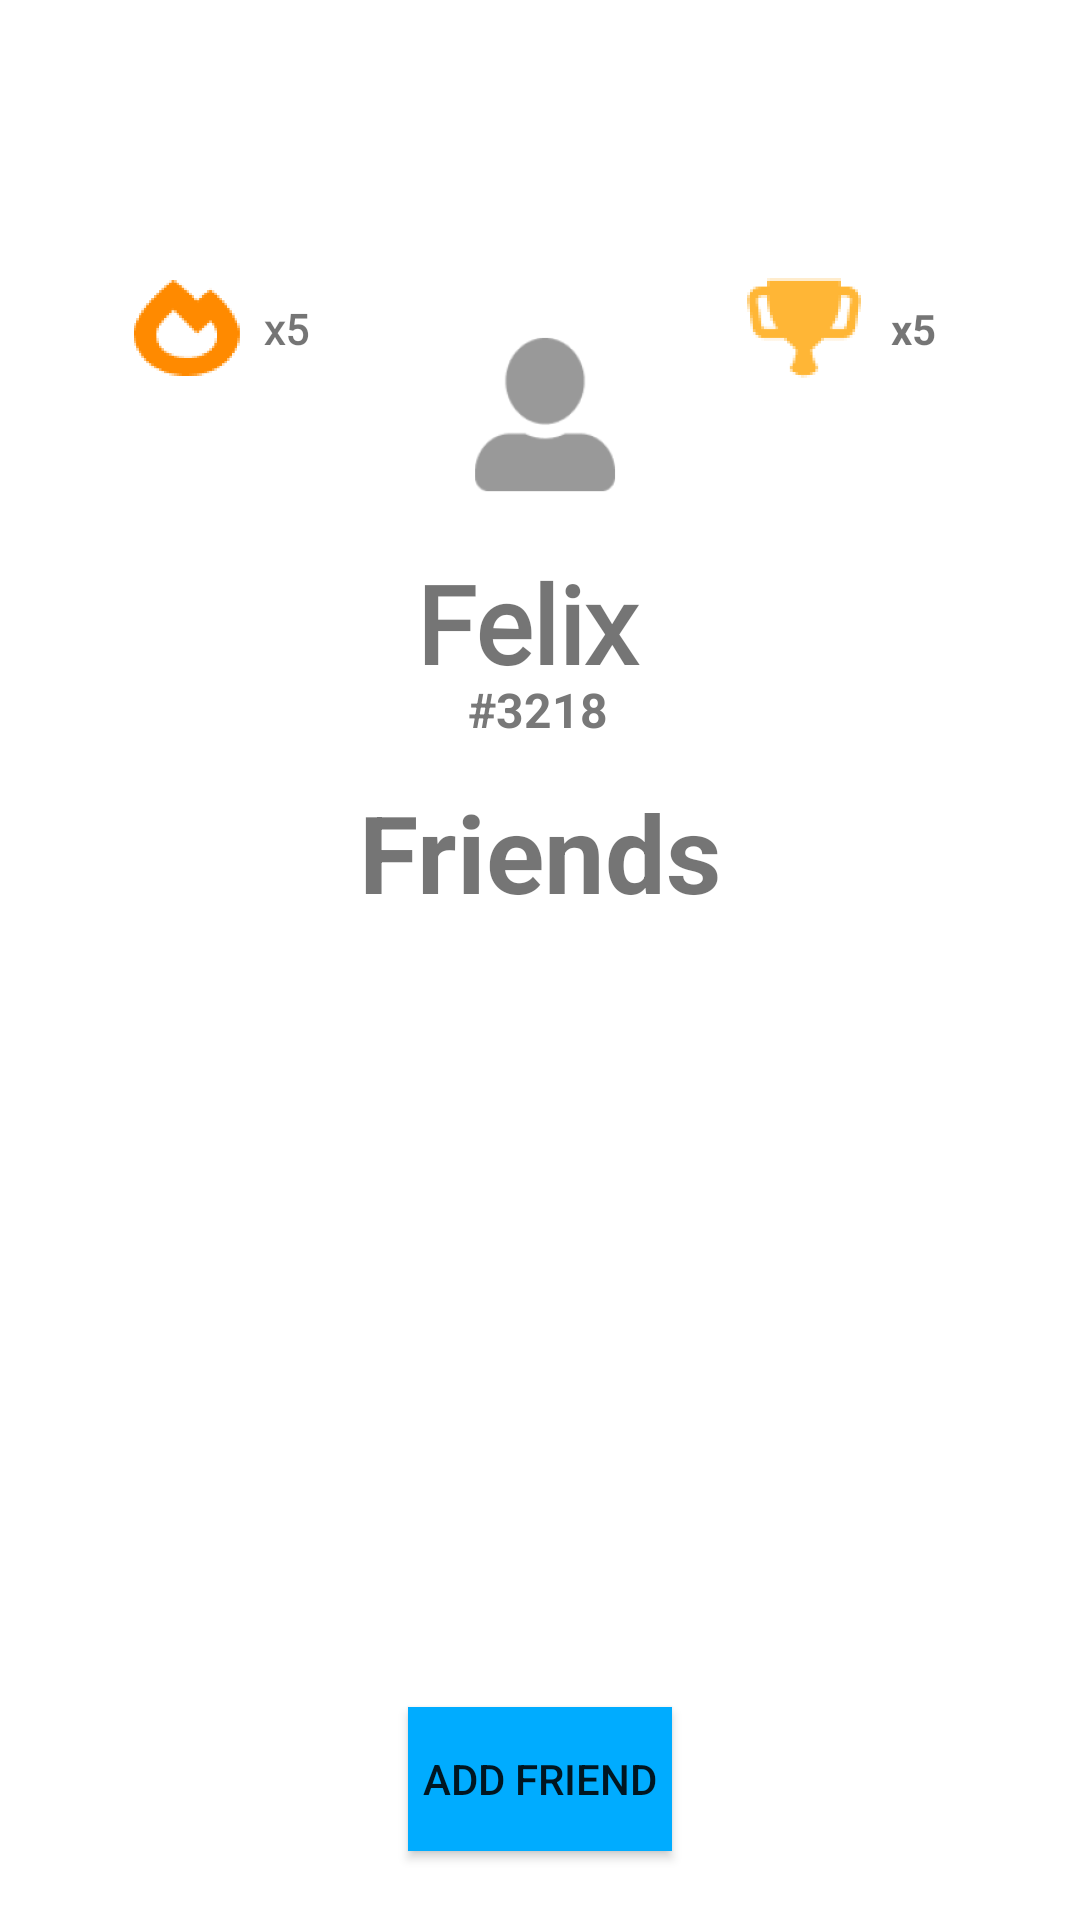

Icons on this 1080px x 1920px Android screen, each with the point to tap as point (x, y):
picture upload fire: point (187, 328)
picture upload profile: point (545, 466)
picture upload winner: point (804, 328)
